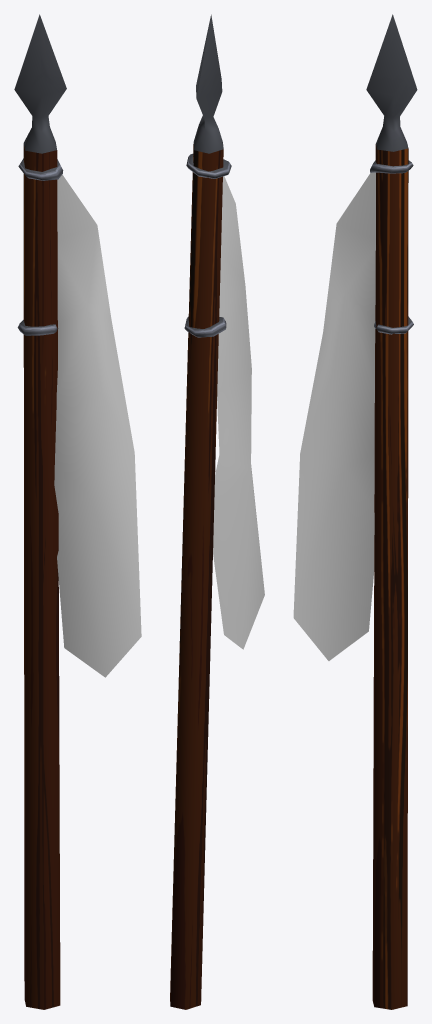
The model's file is SM_PROP_flag_03.fbx.
The picture shows the model from 3 angles, left to right: view 1: azimuth 90°, elevation 25°; view 2: azimuth 150°, elevation 25°; view 3: azimuth 270°, elevation 25°; orthographic projection. The views are drawn at different scales.
Visible parts, largest first — view 1: SM_PROP_flag_03; view 2: SM_PROP_flag_03; view 3: SM_PROP_flag_03.
Part boxes in pixels (x1,y1,x2,y2): SM_PROP_flag_03: (14,14,141,1009); SM_PROP_flag_03: (170,14,264,1009); SM_PROP_flag_03: (293,14,417,1009).
Bounding box in the file's own units: 40.65 × 656 × 75.52.
